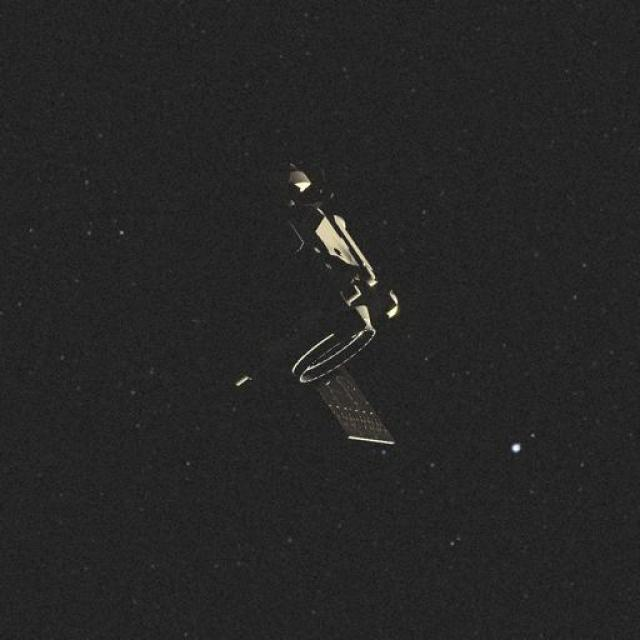proba_3_csc: (229, 152, 459, 484)
